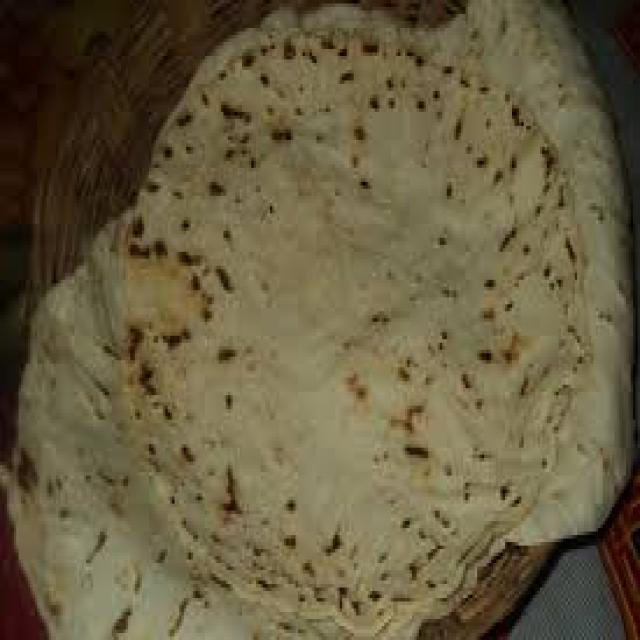ROTI: (21, 0, 624, 637)
